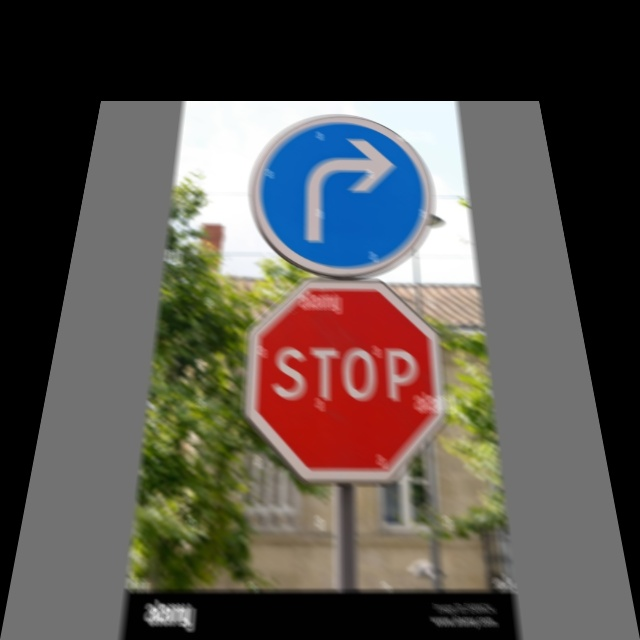Compulsory_Turn_Right_Ahead: (245, 117, 443, 274)
